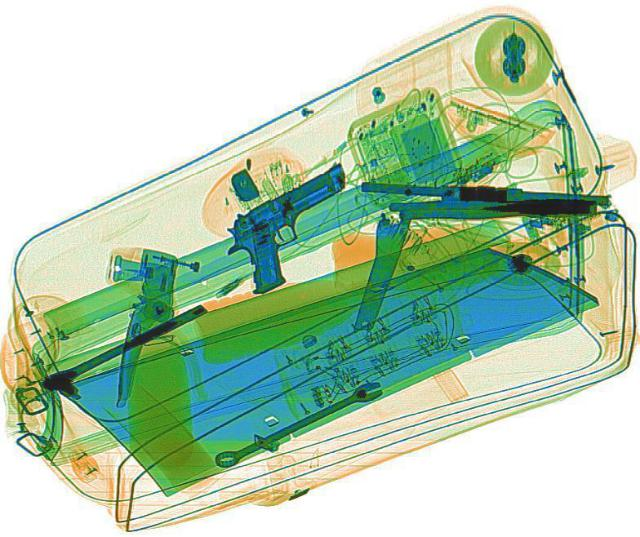Gun: (198, 158, 396, 295)
Wrench: (208, 374, 388, 470)
